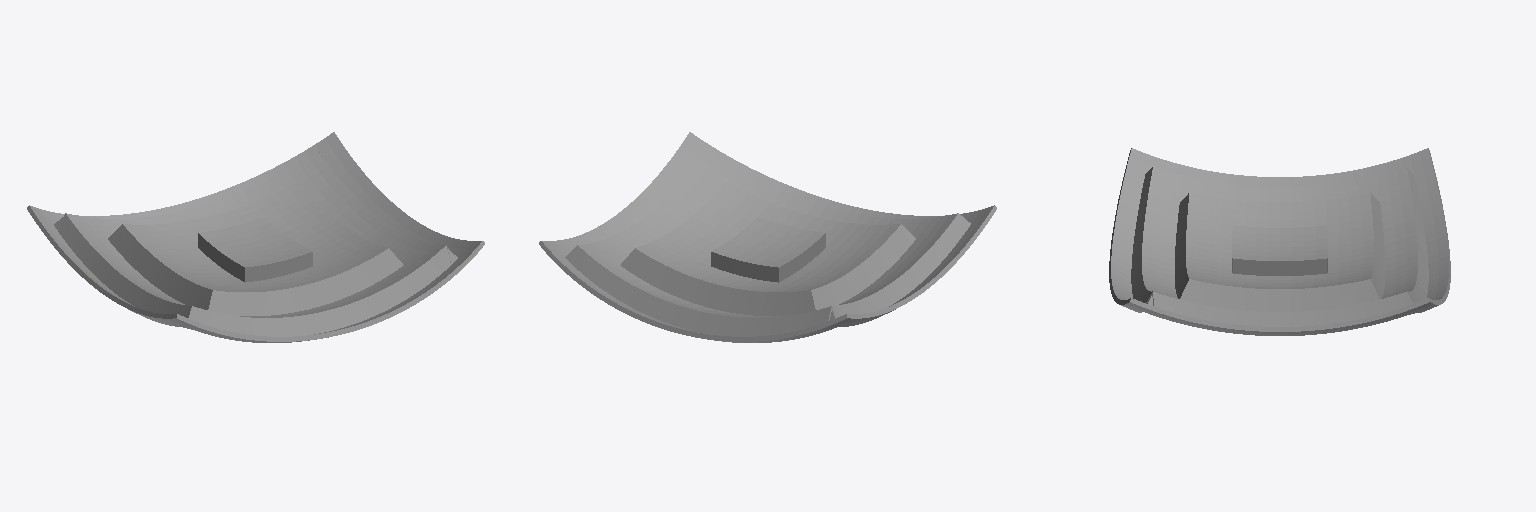
The model's file is roof.obj.
The picture shows the model from 3 angles: view 1: azimuth 30°, elevation 25°; view 2: azimuth 150°, elevation 25°; view 3: azimuth 270°, elevation 25°; orthographic projection.
Visible parts, largest first — view 1: bendRoof5:pCube4; view 2: bendRoof5:pCube4; view 3: bendRoof5:pCube4.
Boxes of the visible parts, box(x1,y1,x2,y2) form: bendRoof5:pCube4: box(27, 132, 484, 342); bendRoof5:pCube4: box(539, 132, 996, 342); bendRoof5:pCube4: box(1109, 148, 1450, 335).
Bounding box in the file's own units: 12.83 × 2.67 × 12.29.